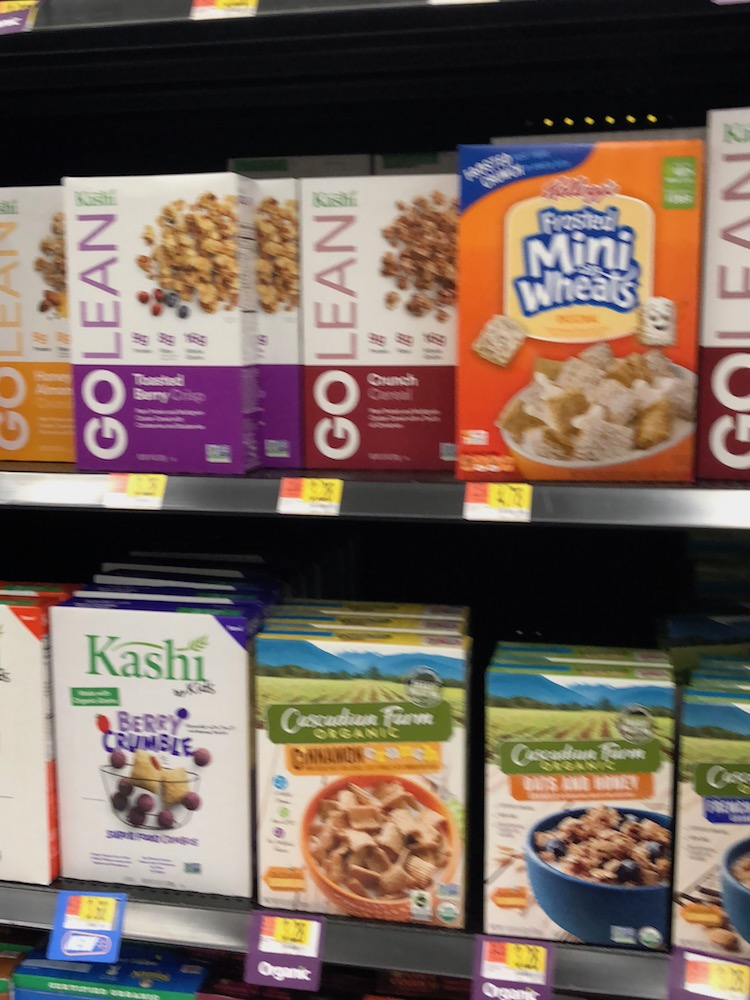Frosted Mini Original -9295869: (458, 141, 685, 481)
